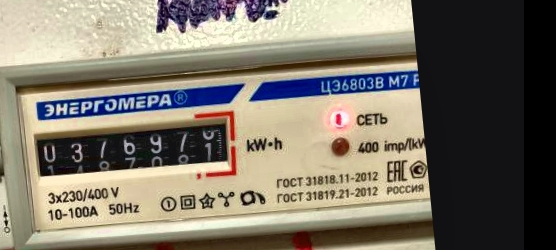0: (40, 140, 57, 163)
1: (202, 140, 213, 163)
3: (69, 141, 84, 163)
6: (120, 131, 137, 156)
7: (94, 135, 110, 159), (174, 127, 190, 151)
9: (147, 131, 163, 154)
screen: (23, 105, 243, 198)
